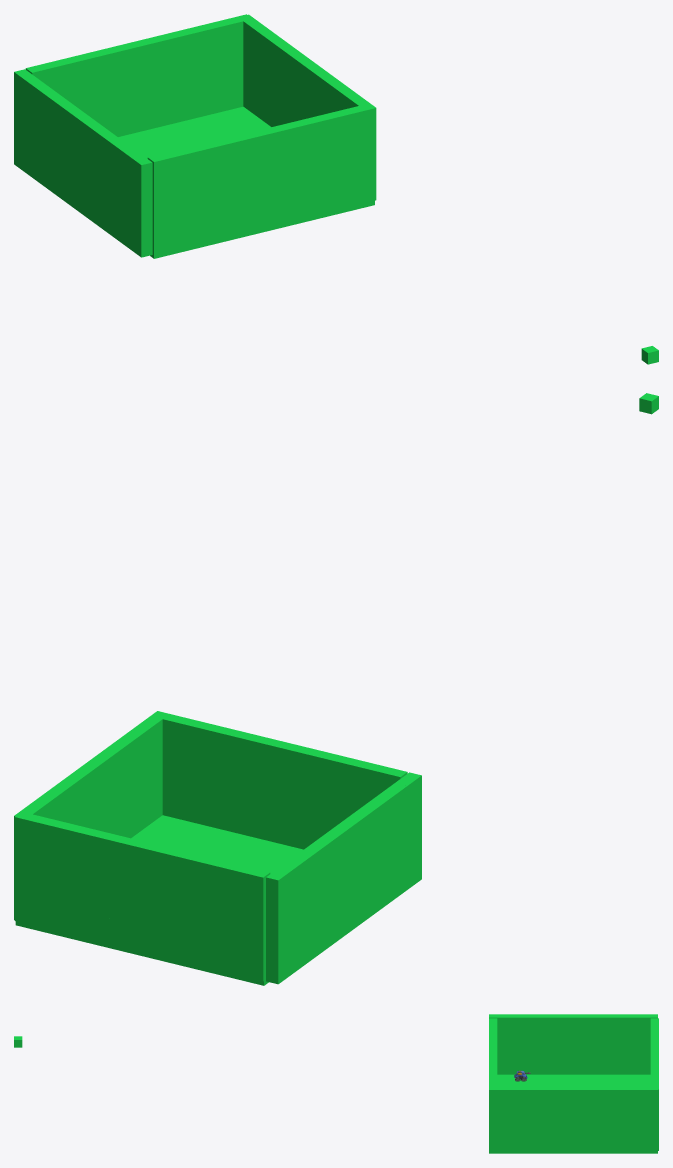
The model's file is кубик.fbx.
3 renders of one model, top to bottom at view 1: azimuth 30°, elevation 25°; view 2: azimuth 150°, elevation 25°; view 3: azimuth 270°, elevation 25°, orthographic. The views are drawn at different scales.
Visible parts, largest first — view 1: Cube.001, Cube.002, Cube.003, Cube.004, Cube.371; view 2: Cube.002, Cube.001, Cube.003, Cube.004, Cube.371; view 3: Cube.004, Cube.003, Cube.371, Cube.002, Cube.001.
Part boxes in pixels (x1,y1,x2,y2): Cube.001: (147,104,374,254); Cube.002: (25,14,252,136); Cube.003: (14,69,152,257); Cube.004: (239,14,376,202); Cube.371: (118,106,374,258); Cube.002: (14,812,270,981); Cube.001: (162,714,407,849); Cube.003: (266,772,421,984); Cube.004: (14,711,169,919); Cube.371: (15,815,303,985); Cube.004: (489,1086,657,1151); Cube.003: (489,1014,657,1074); Cube.371: (489,1074,657,1153); Cube.002: (650,1018,658,1150); Cube.001: (489,1018,497,1089).
Bounding box in the file's own units: 5561 × 3061 × 19961.
